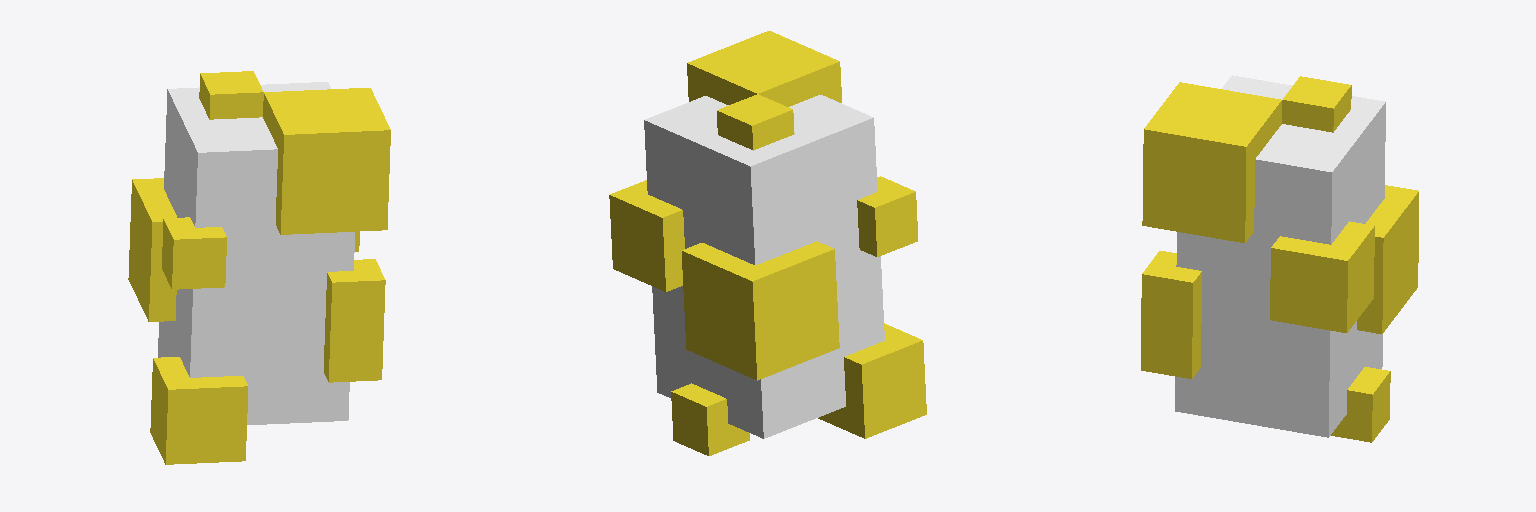
The model's file is DigitoBody.obj.
3 renders of one model, left to right at view 1: azimuth 30°, elevation 25°; view 2: azimuth 150°, elevation 25°; view 3: azimuth 270°, elevation 25°, orthographic.
Visible parts, largest first — view 1: group[number redacted], group[number redacted], group[number redacted], group[number redacted], group[number redacted], group[number redacted], group[number redacted]; view 2: group[number redacted], group[number redacted], group[number redacted], group[number redacted], group[number redacted], group[number redacted], group[number redacted], group[number redacted]; view 3: group[number redacted], group[number redacted], group[number redacted], group[number redacted], group[number redacted], group[number redacted], group[number redacted].
Part boxes in pixels (x1,y1,x2,y2): group[number redacted]: (158, 82, 354, 424); group[number redacted]: (263, 88, 390, 234); group[number redacted]: (150, 357, 247, 464); group[number redacted]: (324, 259, 385, 382); group[number redacted]: (128, 178, 176, 321); group[number redacted]: (162, 217, 226, 289); group[number redacted]: (199, 71, 263, 119); group[number redacted]: (644, 95, 884, 438); group[number redacted]: (682, 241, 839, 380); group[number redacted]: (687, 31, 841, 106); group[number redacted]: (818, 323, 926, 438); group[number redacted]: (609, 180, 684, 291); group[number redacted]: (857, 176, 917, 256); group[number redacted]: (671, 383, 749, 455); group[number redacted]: (717, 94, 794, 150); group[number redacted]: (1175, 75, 1385, 437); group[number redacted]: (1142, 82, 1281, 242); group[number redacted]: (1270, 221, 1374, 332); group[number redacted]: (1141, 251, 1201, 378); group[number redacted]: (1357, 185, 1418, 333); group[number redacted]: (1282, 76, 1351, 132); group[number redacted]: (1331, 367, 1390, 442).
Size of the model in its own units: 0.568 by 0.7102 by 0.55.